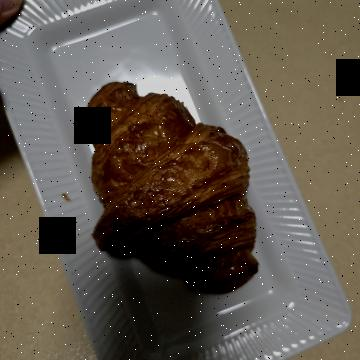croissant: (73, 98, 308, 287)
